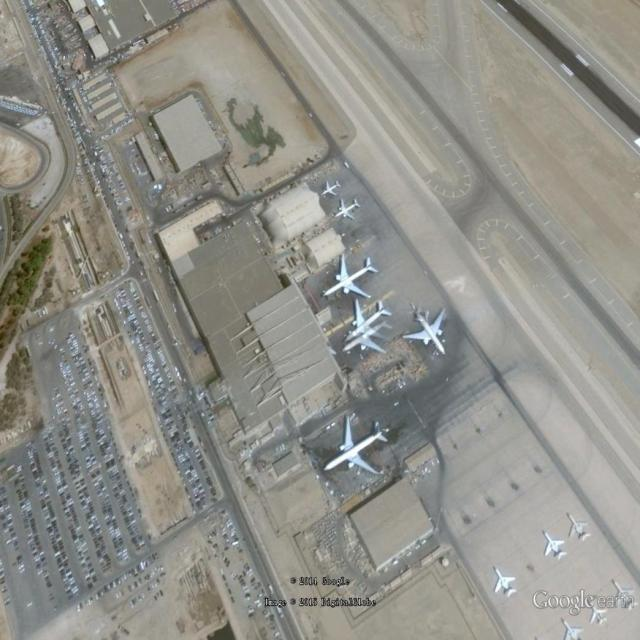aircraft: (326, 413, 392, 480), (322, 252, 380, 303), (400, 307, 451, 358), (345, 298, 396, 347), (343, 317, 397, 360), (489, 564, 521, 603), (538, 529, 570, 566), (565, 511, 593, 544), (336, 195, 365, 225), (558, 618, 587, 640), (588, 599, 608, 628), (319, 175, 343, 198)
